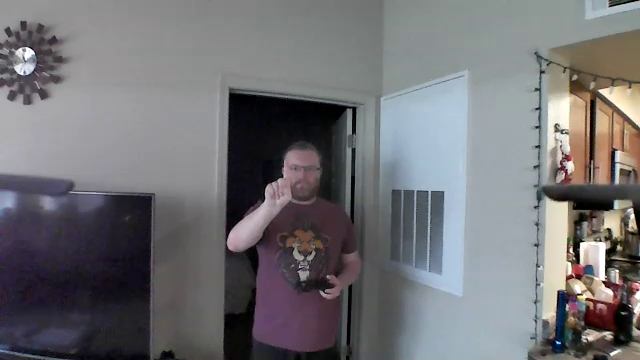up: (262, 155, 295, 206)
